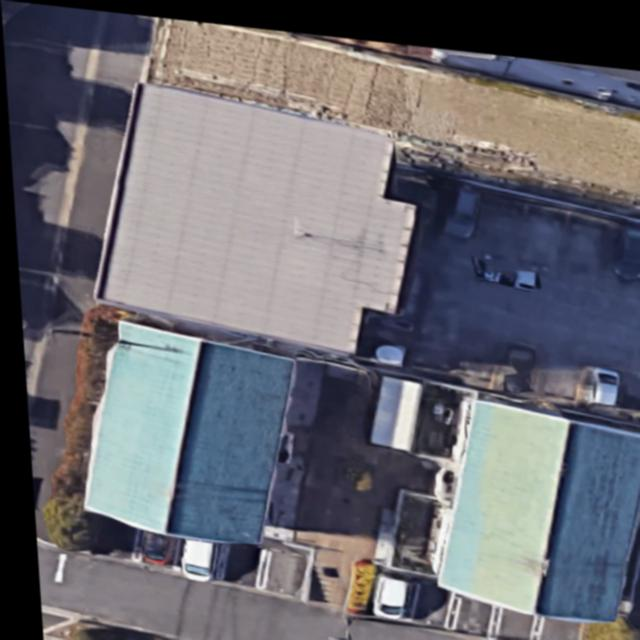Batiment: (91, 81, 412, 346), (76, 319, 289, 539), (430, 389, 640, 609)
